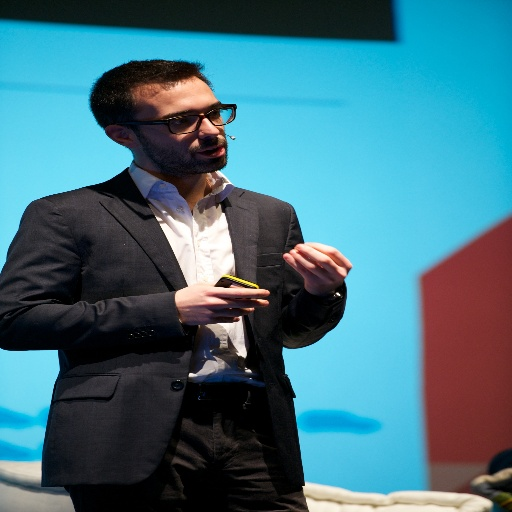hand: (277, 238, 360, 304), (172, 279, 270, 330)
